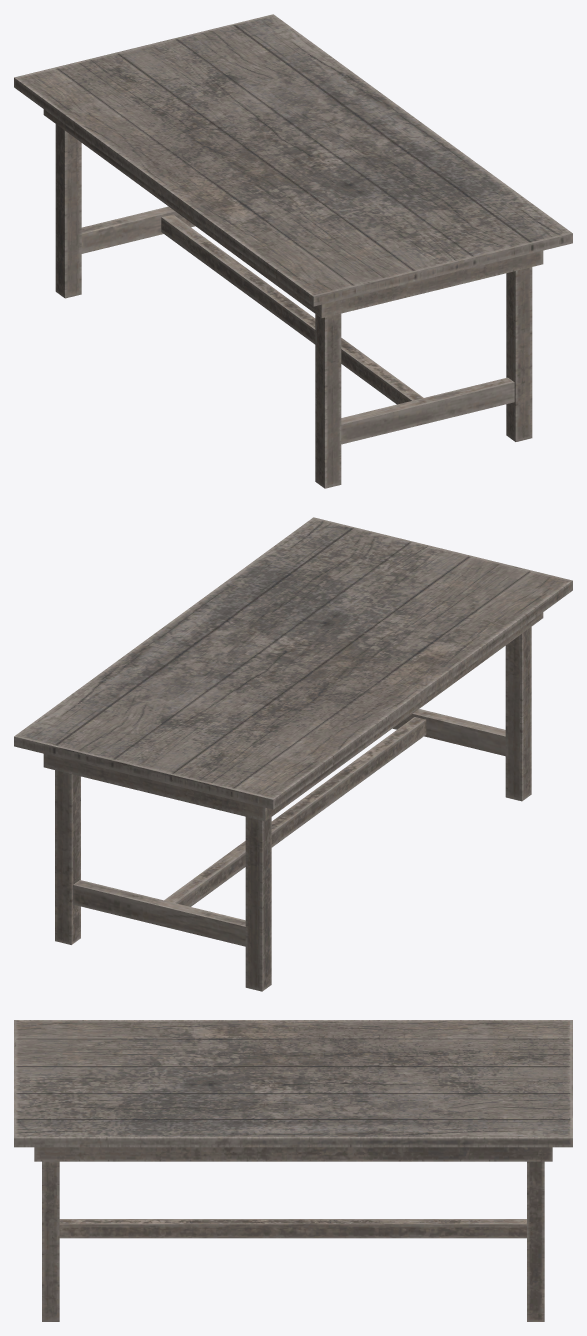
Rendered from SM_Table_1.FBX.
The picture shows the model from 3 angles, top to bottom: view 1: azimuth 30°, elevation 25°; view 2: azimuth 150°, elevation 25°; view 3: azimuth 270°, elevation 25°; orthographic projection. The views are drawn at different scales.
Visible parts, largest first — view 1: SM_Table_1; view 2: SM_Table_1; view 3: SM_Table_1.
Boxes of the visible parts, x1,y1,x2,y2 form: SM_Table_1: (14, 14, 572, 488); SM_Table_1: (14, 517, 572, 991); SM_Table_1: (14, 1020, 572, 1321).
Size of the model in its own units: 110 by 84.84 by 220.
